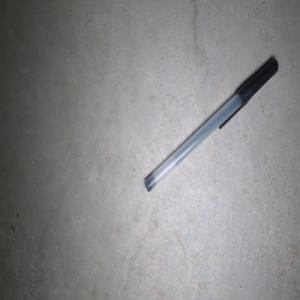Pen: (145, 58, 278, 191)
